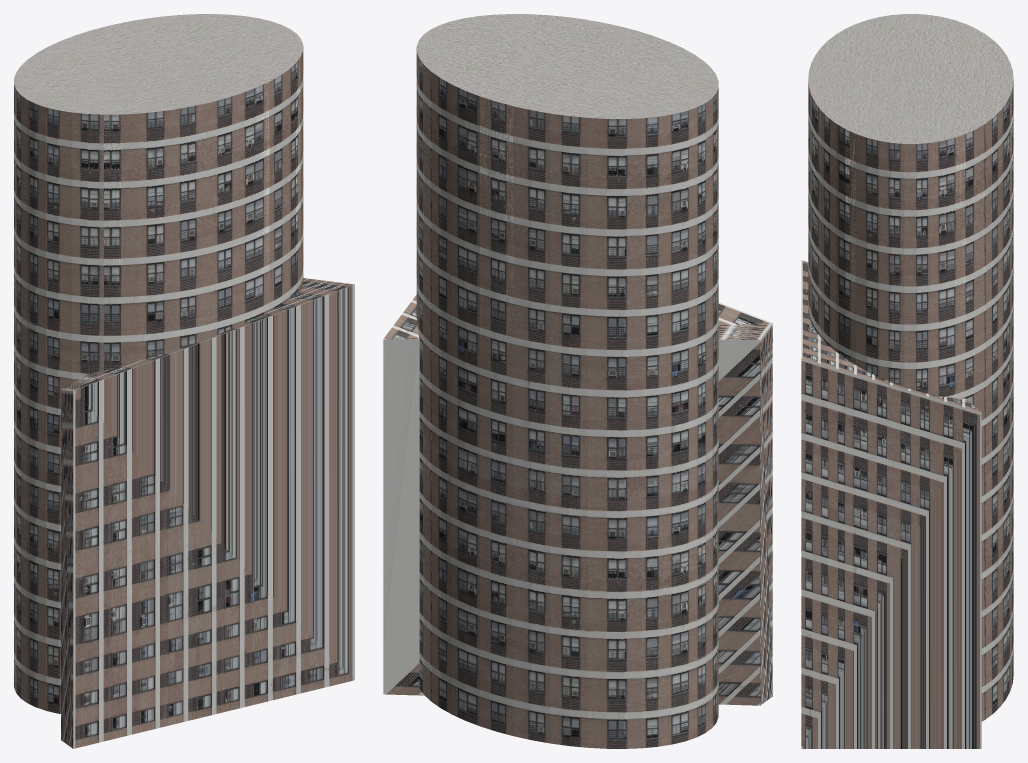
3 views of the same model, side by side, from view 1: azimuth 30°, elevation 25°; view 2: azimuth 150°, elevation 25°; view 3: azimuth 270°, elevation 25° (orthographic). The views are drawn at different scales.
Visible parts, largest first — view 1: building43_cell.001, building43, building43_cell.002, building43_cell; view 2: building43, building43_cell.002, building43_cell, building43_cell.001; view 3: building43, building43_cell.001, building43_cell.002, building43_cell.
Boxes of the visible parts, x1,y1,x2,y2 form: building43_cell.001: (61,278,354,748); building43: (14,14,303,713); building43_cell.002: (14,14,303,374); building43_cell: (14,345,86,711); building43: (416,14,718,748); building43_cell.002: (417,14,718,391); building43_cell: (420,361,718,748); building43_cell.001: (383,295,772,705); building43: (808,16,1013,721); building43_cell.001: (801,260,981,748); building43_cell.002: (808,14,1013,397); building43_cell: (967,347,1013,713).
Size of the model in its own units: 2.35 by 4.85 by 1.55.
2 materials, 2 textured.
